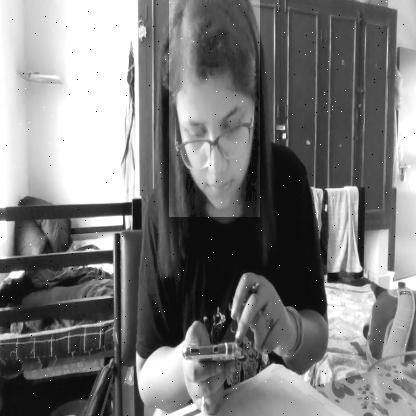Normal: (169, 0, 260, 217)
